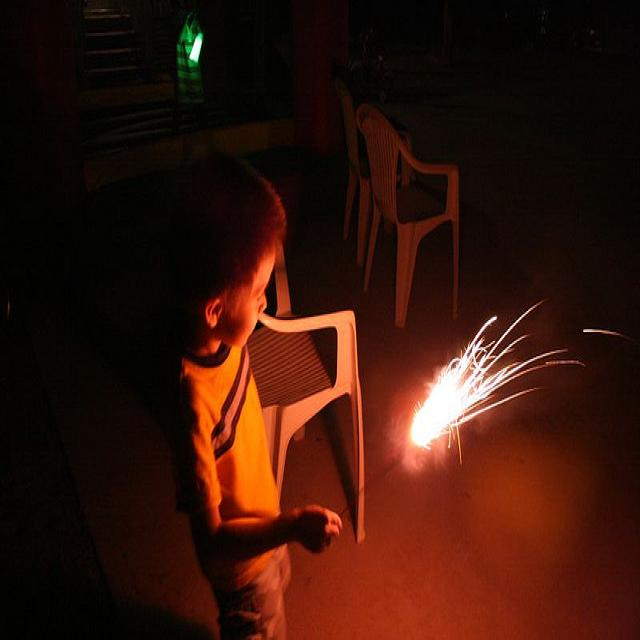People: (160, 172, 333, 640)
chair: (216, 222, 387, 515), (358, 107, 469, 371), (323, 46, 389, 229)
